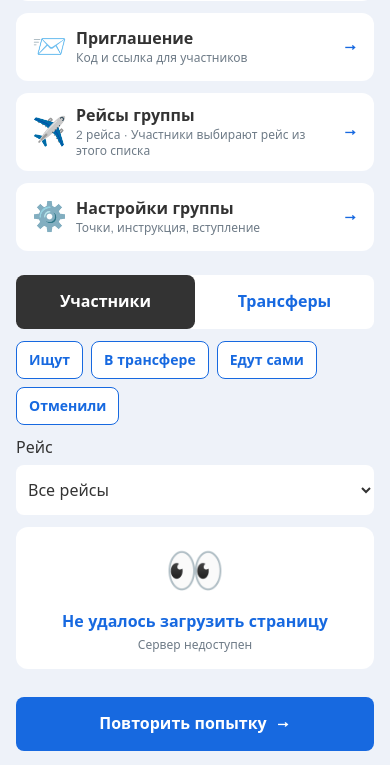
Test: AdminHub — вкладка «Участники» › ошибка вкладки — карточка с повтором, хаб работает
(page scrolled)
Expected: the message shows "Сервер недоступен", [138,638,252,652]
Expected: the button "Рейсы группы" is shown, [16,93,374,171]
Step 1. Click the button "Повторить попытку →" → (195, 724), box [16,697,374,751]
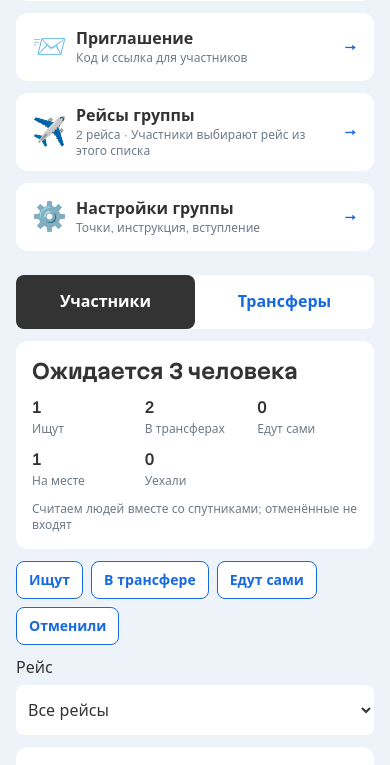
Now the text "Ожидается 3 человека" is shown, box [32,359,298,383]
